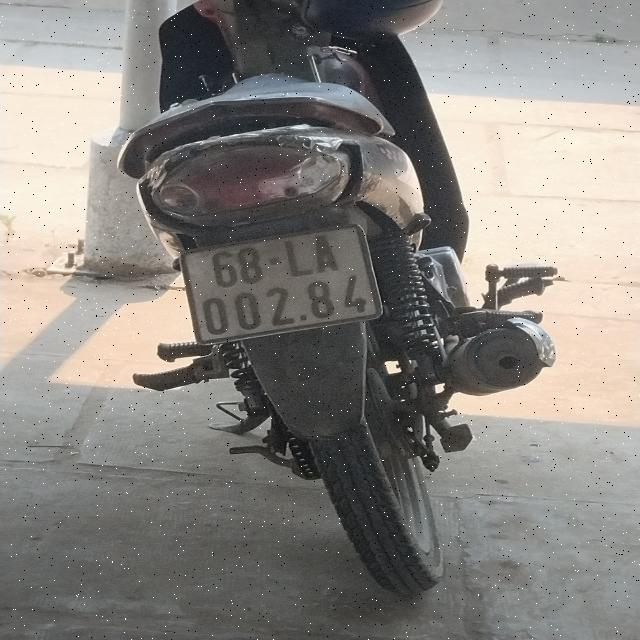0: (232, 289, 260, 328), (203, 296, 228, 336)
2: (266, 287, 295, 329)
4: (341, 276, 368, 314)
6: (210, 248, 238, 289)
8: (305, 281, 336, 322), (239, 246, 264, 282)
A: (311, 234, 338, 274)
L: (285, 239, 313, 278)
